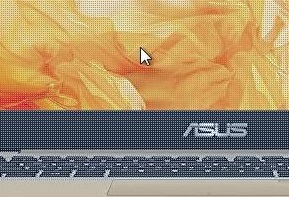cursor: (137, 44, 153, 68)
